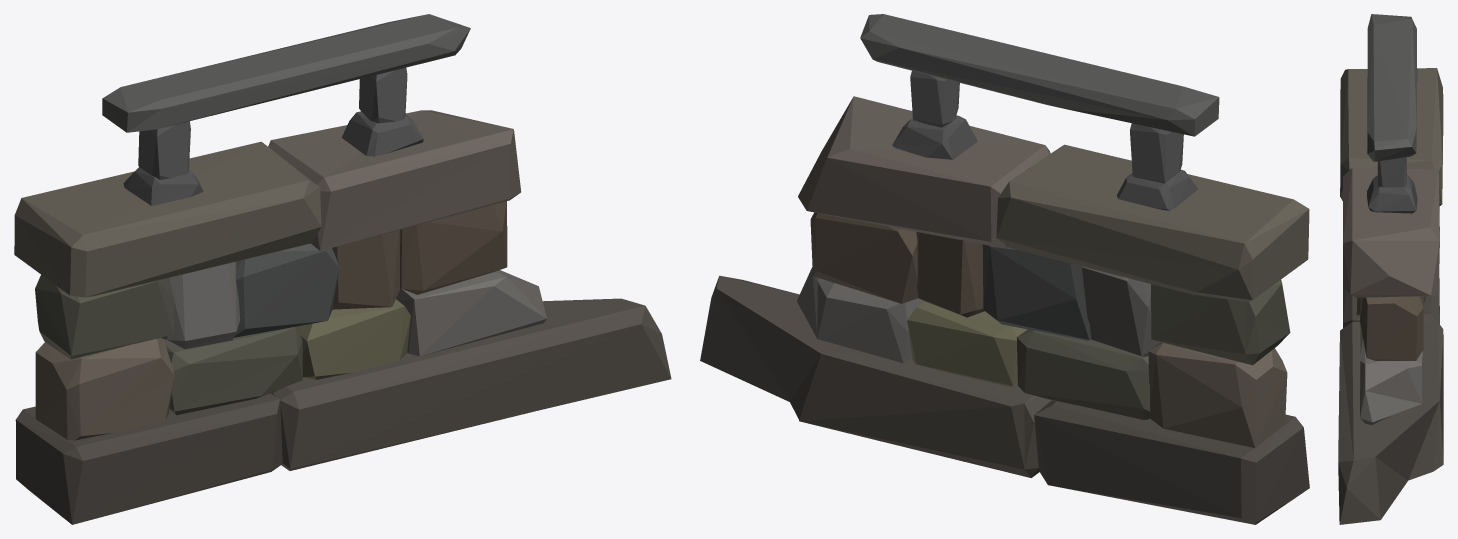
File: um_wall002.FBX
3 renders of one model, left to right at view 1: azimuth 30°, elevation 25°; view 2: azimuth 150°, elevation 25°; view 3: azimuth 270°, elevation 25°, orthographic. The views are drawn at different scales.
Parts seen in each view (by area): view 1: um_wall002; view 2: um_wall002; view 3: um_wall002.
Part boxes in pixels (left/top/right/bottom): um_wall002: left=14, top=14, right=671, bottom=524; um_wall002: left=700, top=14, right=1309, bottom=524; um_wall002: left=1338, top=14, right=1443, bottom=524.
Size of the model in its own units: 3.64 by 2.26 by 0.6912.
